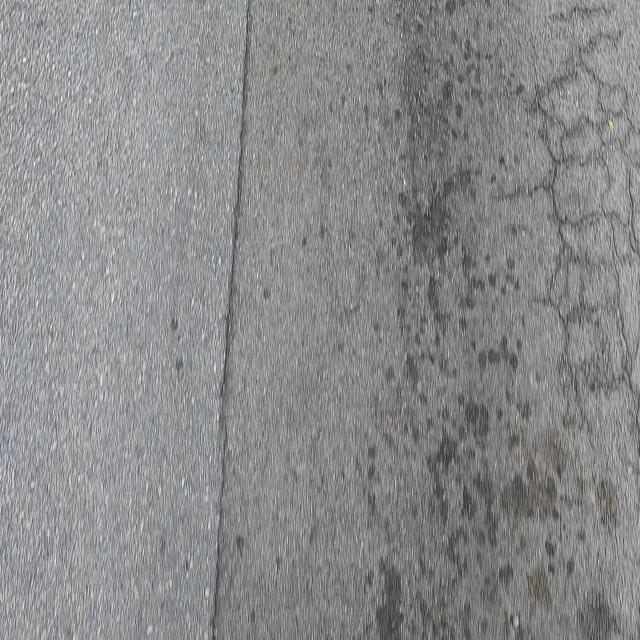Retak-Buaya: (532, 26, 638, 405)
Retak-Memanjang: (210, 0, 256, 640)
